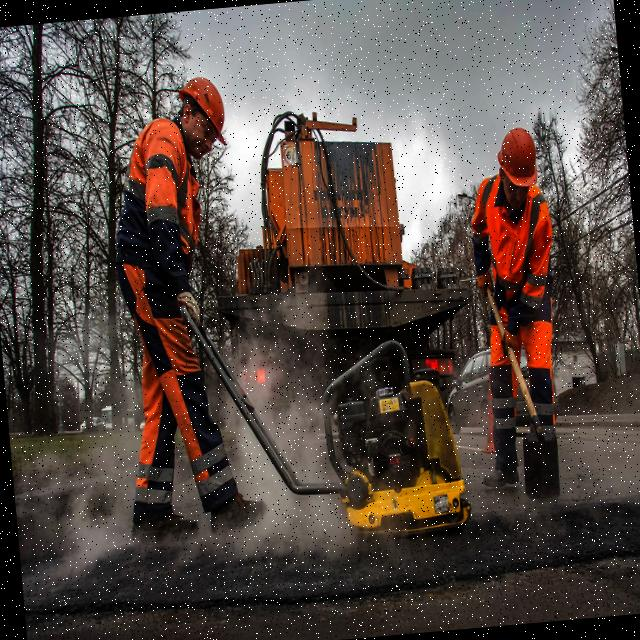Helmet: (180, 75, 230, 153), (495, 128, 543, 192)
Jacket: (120, 127, 206, 289), (477, 182, 554, 305)
